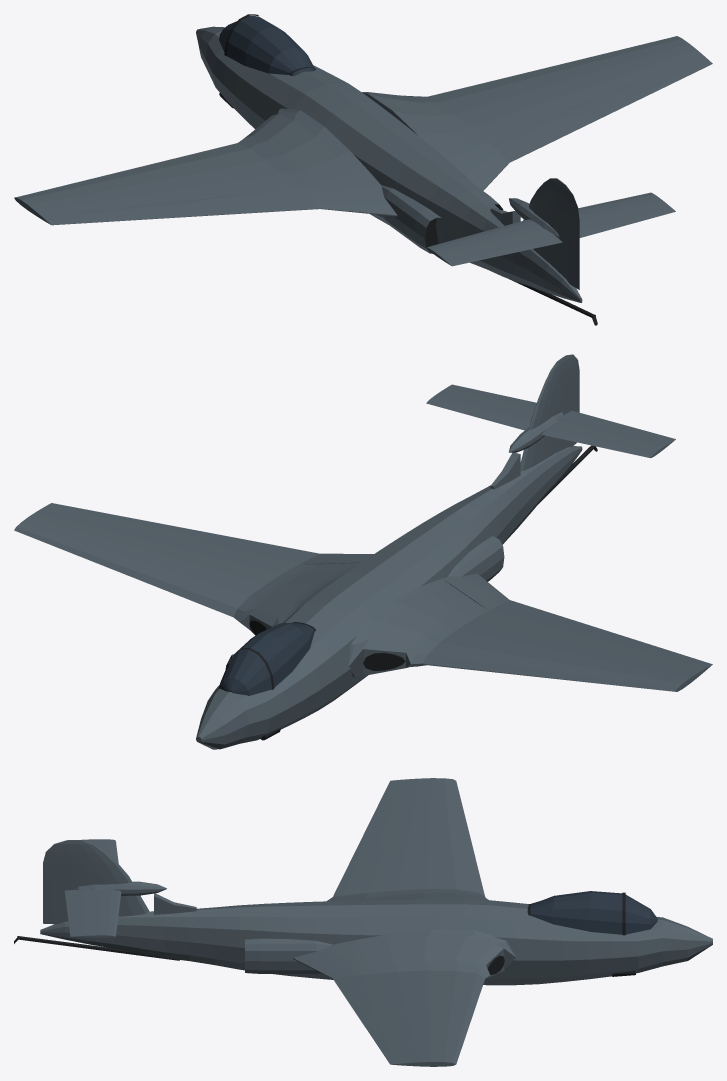
Rendered from seahawk.glb.
3 views of the same model, one above another, from view 1: azimuth 30°, elevation 25°; view 2: azimuth 150°, elevation 25°; view 3: azimuth 270°, elevation 25° (orthographic). The views are drawn at different scales.
Visible parts, largest first — view 1: Fuselage, Wing L, Wing R, Cockpit Glass, Flap R, Stabilizer L, Jet Pipe Fairings, Flap L, Rudder, Aileron R, Aileron L, Vertical Fin (+4 smaller); view 2: Fuselage, Wing L, Wing R, Cockpit Glass, Vertical Fin, Stabilizer L, Stabilizer R, Jet Pipe Fairings, Flap R, Aileron R, Flap L, Aileron L (+4 smaller); view 3: Fuselage, Wing R, Wing L, Cockpit Glass, Vertical Fin, Jet Pipe Fairings, Rudder, Stabilizer R, Flap L, Aileron L, Flap R, Aileron R (+4 smaller).
Boxes of the visible parts, x1,y1,x2,y2 form: Fuselage: (196,26,582,302); Wing L: (14,108,397,225); Wing R: (362,36,712,190); Cockpit Glass: (219,16,314,75); Flap R: (490,111,582,161); Stabilizer L: (426,219,550,260); Jet Pipe Fairings: (380,185,503,253); Flap L: (208,189,318,214); Rudder: (554,182,579,289); Aileron R: (574,69,681,123); Aileron L: (82,200,213,222); Vertical Fin: (523,178,564,267); Fuselage: (196,446,582,749); Wing L: (348,573,712,691); Wing R: (14,503,373,635); Cockpit Glass: (219,623,314,695); Vertical Fin: (520,358,566,471); Stabilizer L: (542,417,667,457); Stabilizer R: (426,390,533,430); Jet Pipe Fairings: (447,536,504,581); Flap R: (208,535,318,563); Aileron R: (82,510,213,541); Flap L: (490,600,581,631); Aileron L: (574,625,681,660); Fuselage: (40,899,712,985); Wing R: (293,929,516,1066); Wing L: (327,778,488,901); Cockpit Glass: (527,891,657,934); Vertical Fin: (67,840,149,916); Jet Pipe Fairings: (245,938,332,973); Rudder: (43,840,75,924); Stabilizer R: (84,889,121,937); Flap L: (333,852,381,896); Aileron L: (355,796,400,850); Flap R: (333,975,382,1009); Aileron R: (355,1009,400,1051).
Size of the model in its own units: 11.8 by 2.72 by 12.28.
